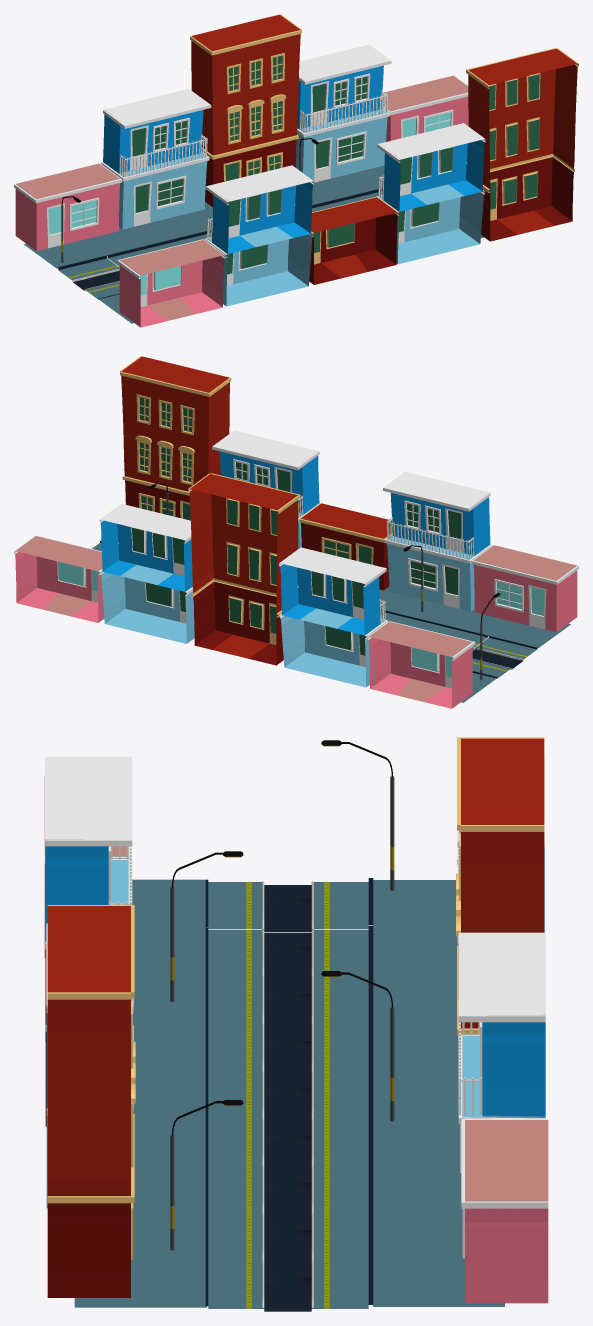
Rendered from Calle1.fbx.
3 views of the same model, one above another, from view 1: azimuth 30°, elevation 25°; view 2: azimuth 150°, elevation 25°; view 3: azimuth 270°, elevation 25° (orthographic). The views are drawn at different scales.
Parts seen in each view (by area): view 1: edifio032, edifio031, edifio026, edifio028, edifio029, edifio023, edifio025, edifio024, edifio027, carretera 020, edifio030, carretera 021 (+2 smaller); view 2: edifio031, edifio032, edifio028, edifio026, edifio023, edifio024, edifio025, edifio030, edifio029, edifio027, carretera 020, carretera 021 (+1 smaller); view 3: carretera 020, edifio032, edifio031, edifio023, carretera 017, carretera 018, carretera 016, edifio030, carretera 019, edifio026, carretera 021, farola010 (+3 smaller).
Part boxes in pixels (x1,y1,x2,y2): edifio032: [466, 48, 578, 241]; edifio031: [190, 14, 301, 206]; edifio026: [204, 165, 313, 306]; edifio028: [101, 89, 211, 229]; edifio029: [376, 123, 485, 264]; edifio023: [296, 44, 391, 182]; edifio025: [117, 239, 225, 327]; edifio024: [14, 163, 122, 251]; edifio027: [309, 196, 398, 284]; carretera 020: [24, 165, 484, 323]; edifio030: [382, 75, 468, 141]; carretera 021: [57, 255, 119, 299]; edifio031: [188, 473, 300, 665]; edifio032: [120, 356, 231, 520]; edifio028: [279, 547, 387, 687]; edifio026: [383, 472, 491, 611]; edifio023: [99, 504, 194, 643]; edifio024: [367, 621, 475, 708]; edifio025: [471, 545, 578, 632]; edifio030: [14, 535, 104, 622]; edifio029: [212, 430, 319, 548]; edifio027: [299, 503, 392, 590]; carretera 020: [101, 540, 570, 702]; carretera 021: [472, 636, 537, 678]; carretera 020: [74, 879, 504, 1307]; edifio032: [47, 905, 135, 1297]; edifio031: [456, 737, 544, 1092]; edifio023: [458, 932, 545, 1217]; carretera 017: [205, 1115, 373, 1216]; carretera 018: [205, 1020, 373, 1122]; carretera 016: [205, 1210, 373, 1311]; edifio030: [461, 1119, 548, 1303]; carretera 019: [205, 926, 373, 1027]; edifio026: [45, 756, 132, 1041]; carretera 021: [205, 878, 373, 932]; farola010: [170, 851, 243, 1001].
Bounding box in the file's own units: 1262 × 437 × 627.
